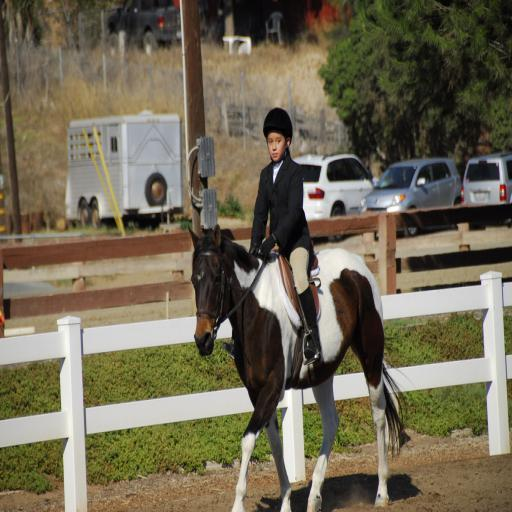horse: (187, 220, 419, 512)
